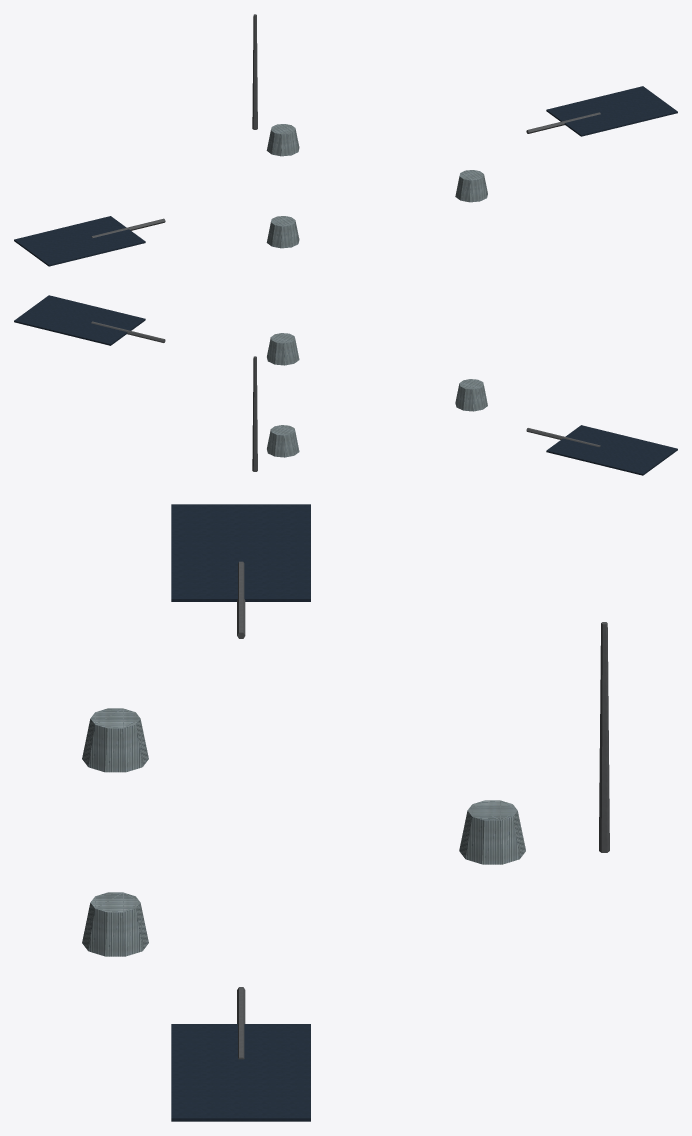
File: skyroute_orbit_01.glb
3 views of the same model, one above another, from view 1: azimuth 30°, elevation 25°; view 2: azimuth 150°, elevation 25°; view 3: azimuth 270°, elevation 25° (orthographic). The views are drawn at different scales.
Visible parts, largest first — view 1: skyroute_orbit_01; view 2: skyroute_orbit_01; view 3: skyroute_orbit_01.
Boxes of the visible parts, x1,y1,x2,y2 form: skyroute_orbit_01: (14,14,677,266); skyroute_orbit_01: (14,295,677,475); skyroute_orbit_01: (82,504,609,1121).
Size of the model in its own units: 52 by 9 by 18.9.
3 materials, 3 textured.
